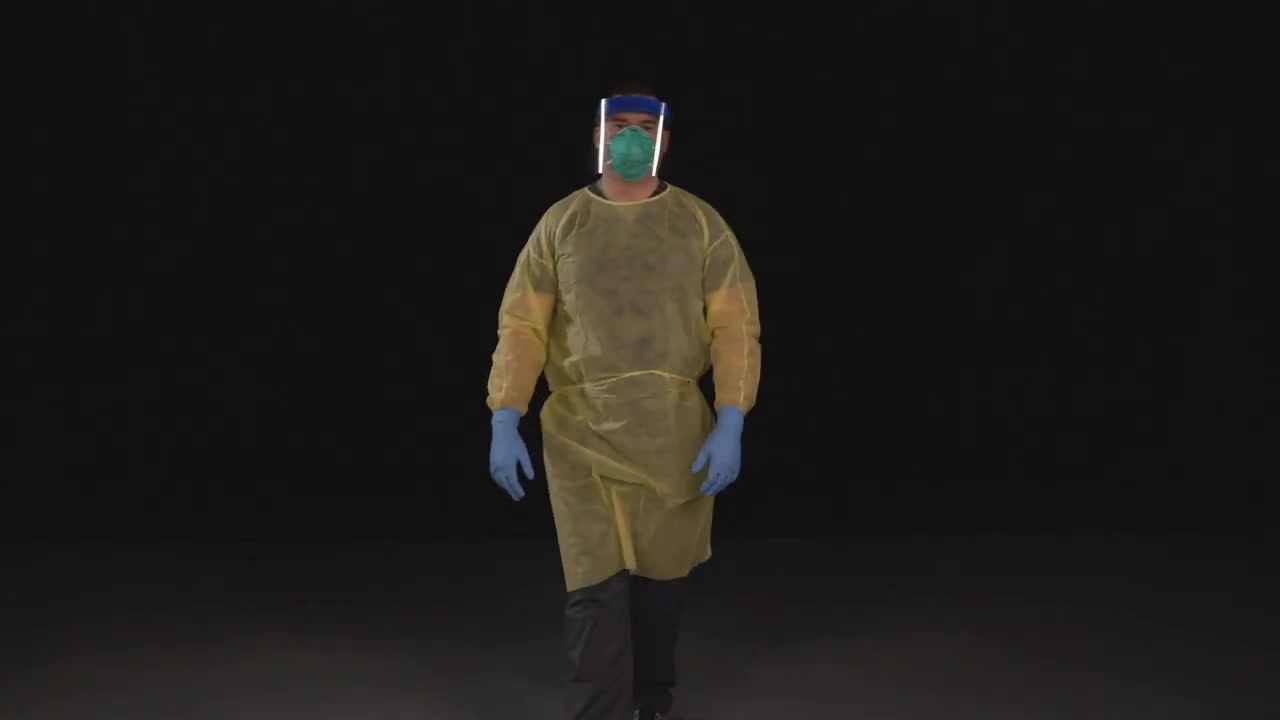Coverall: (502, 178, 736, 578)
Face_Shield: (587, 95, 670, 181)
Gloves: (488, 412, 532, 501), (702, 408, 740, 492)
with_mask: (611, 131, 657, 178)
